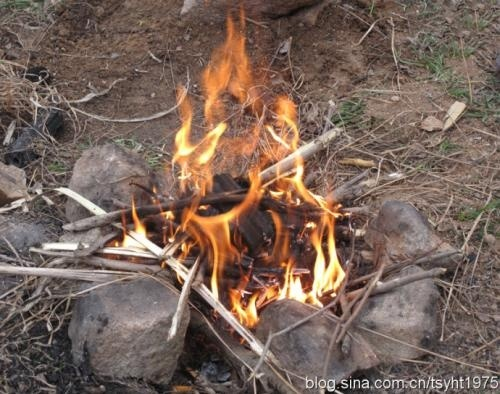fire: (158, 17, 354, 325), (109, 191, 161, 253)
